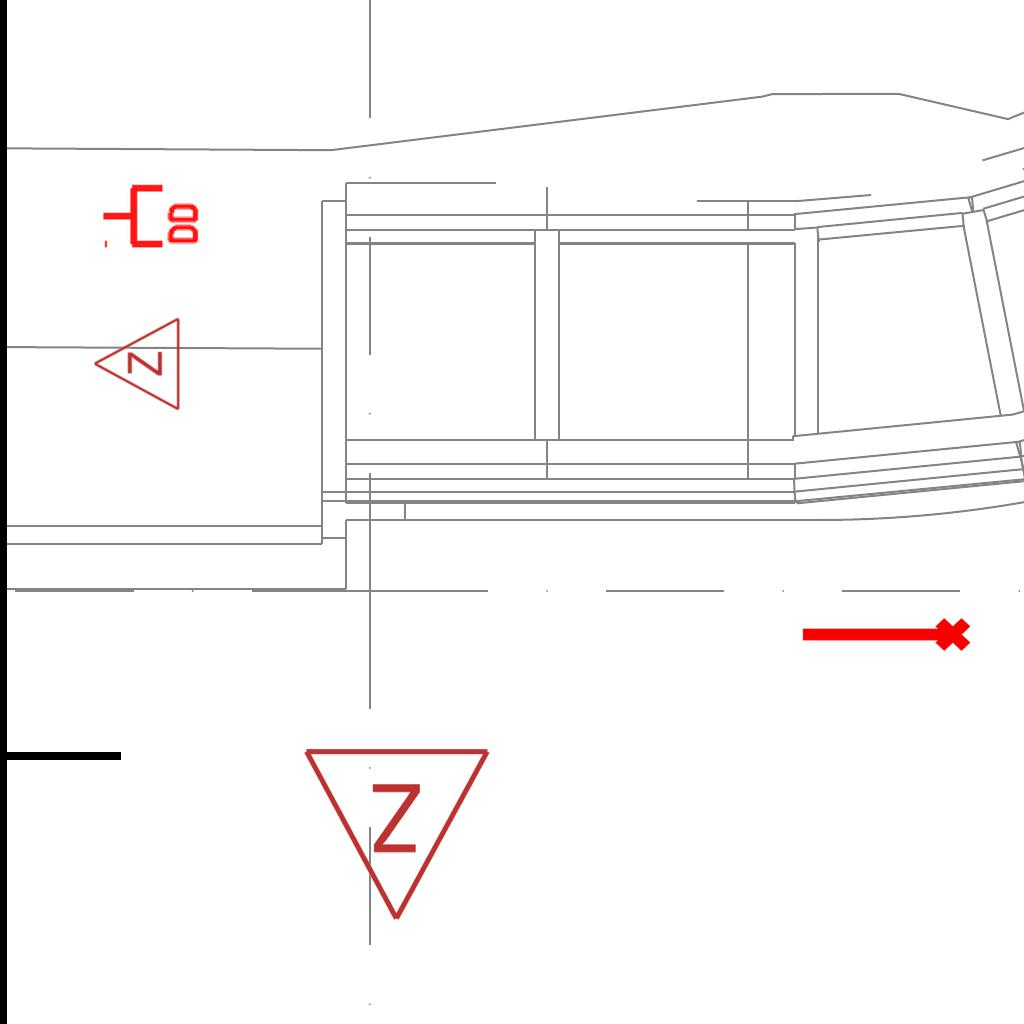ASR_Ansaugoeffnung: (797, 614, 973, 660)
Datenanschluss_zweifach: (100, 180, 203, 249)
Zimmersignalleuchte: (301, 734, 497, 934), (87, 316, 187, 414)
